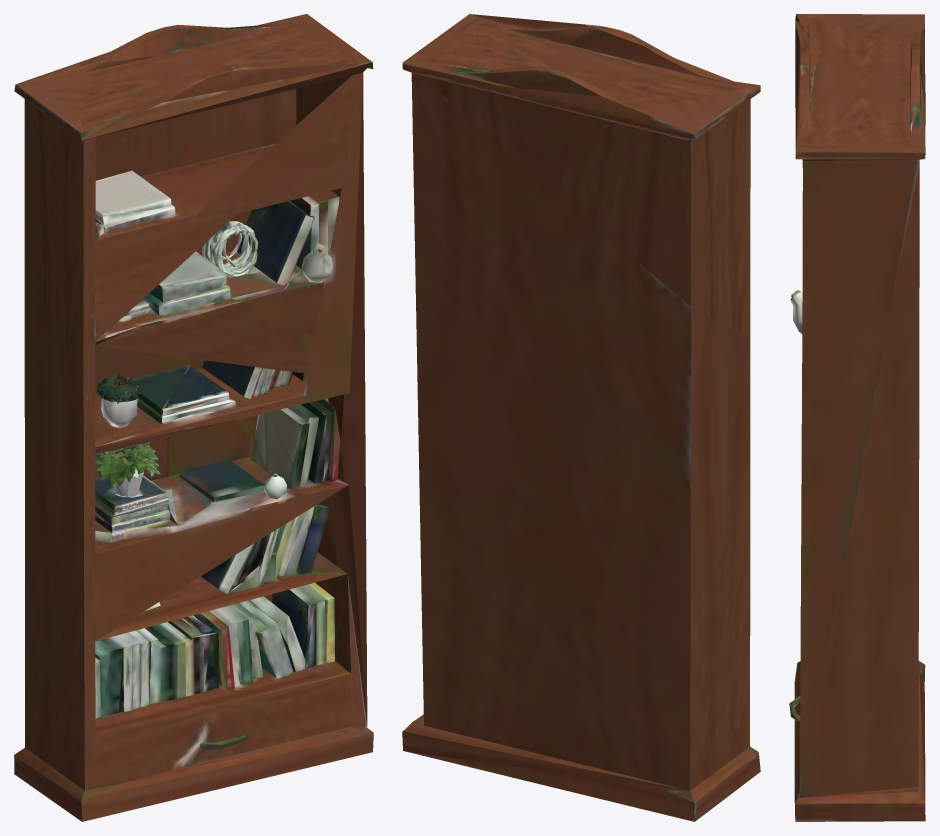
File: bookshelf-v1.glb
3 views of the same model, side by side, from view 1: azimuth 30°, elevation 25°; view 2: azimuth 150°, elevation 25°; view 3: azimuth 270°, elevation 25° (orthographic). The views are drawn at different scales.
Size of the model in its own units: 0.9656 by 2.24 by 0.4001.
1 material, 1 textured.
